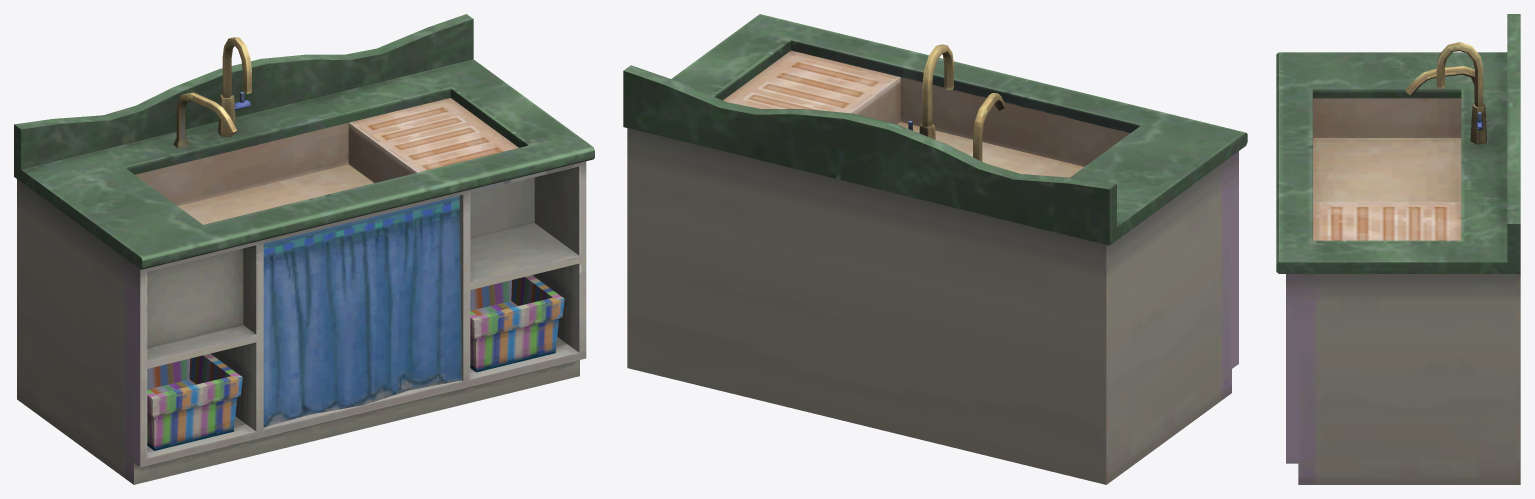
Rendered from furni_0200618_03.FBX.
3 renders of one model, left to right at view 1: azimuth 30°, elevation 25°; view 2: azimuth 150°, elevation 25°; view 3: azimuth 270°, elevation 25°, orthographic. The views are drawn at different scales.
Parts seen in each view (by area): view 1: furni_0200618_03; view 2: furni_0200618_03; view 3: furni_0200618_03.
Boxes of the visible parts, x1,y1,x2,y2 form: furni_0200618_03: [14, 14, 594, 484]; furni_0200618_03: [623, 14, 1247, 484]; furni_0200618_03: [1276, 14, 1520, 484].
Bounding box in the file's own units: 163 × 116 × 79.84.
Materials: 1 (1 with a texture image).
